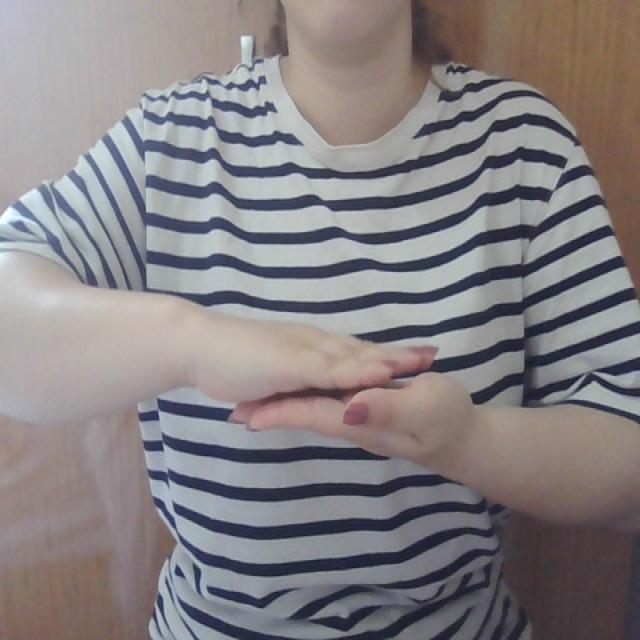Arkadas: (166, 286, 577, 472)
